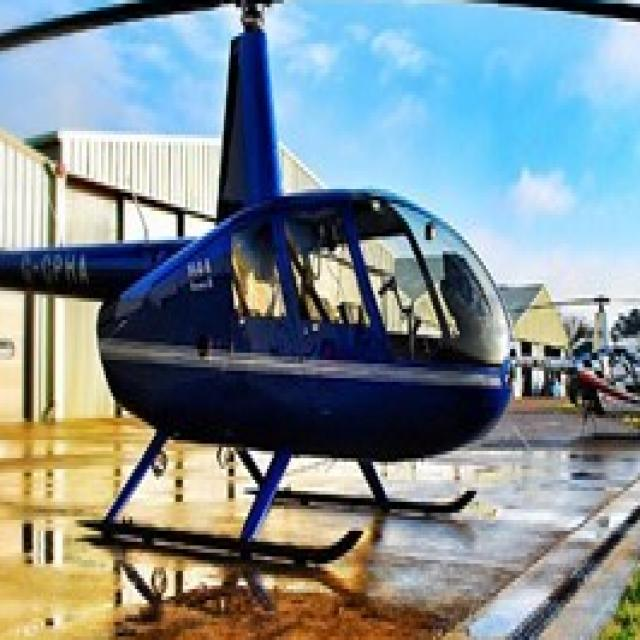helicopter: (1, 1, 640, 576)
